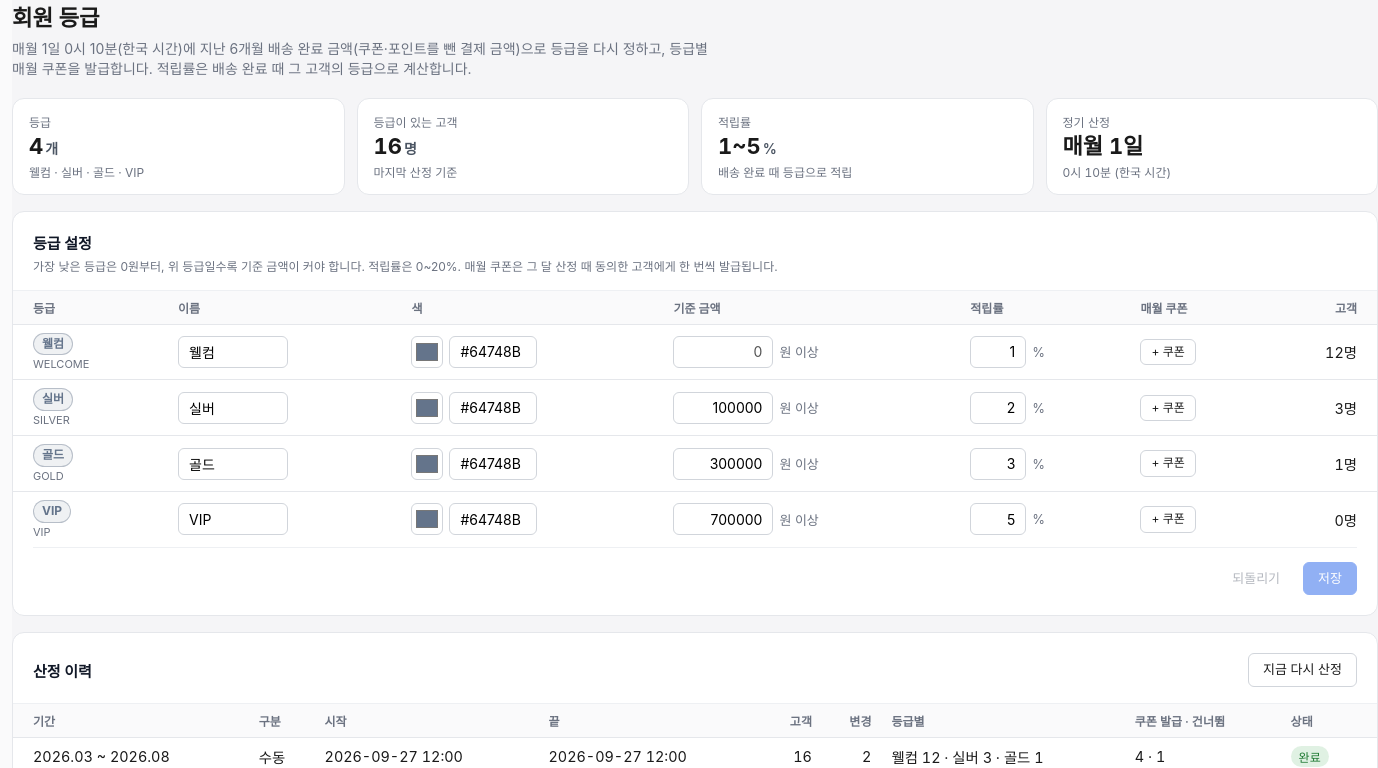
Test: TiersPage › shows the 409 message when a run is already going
Click the button "지금 다시 산정" at (1302, 670), box [1248,653,1357,687]
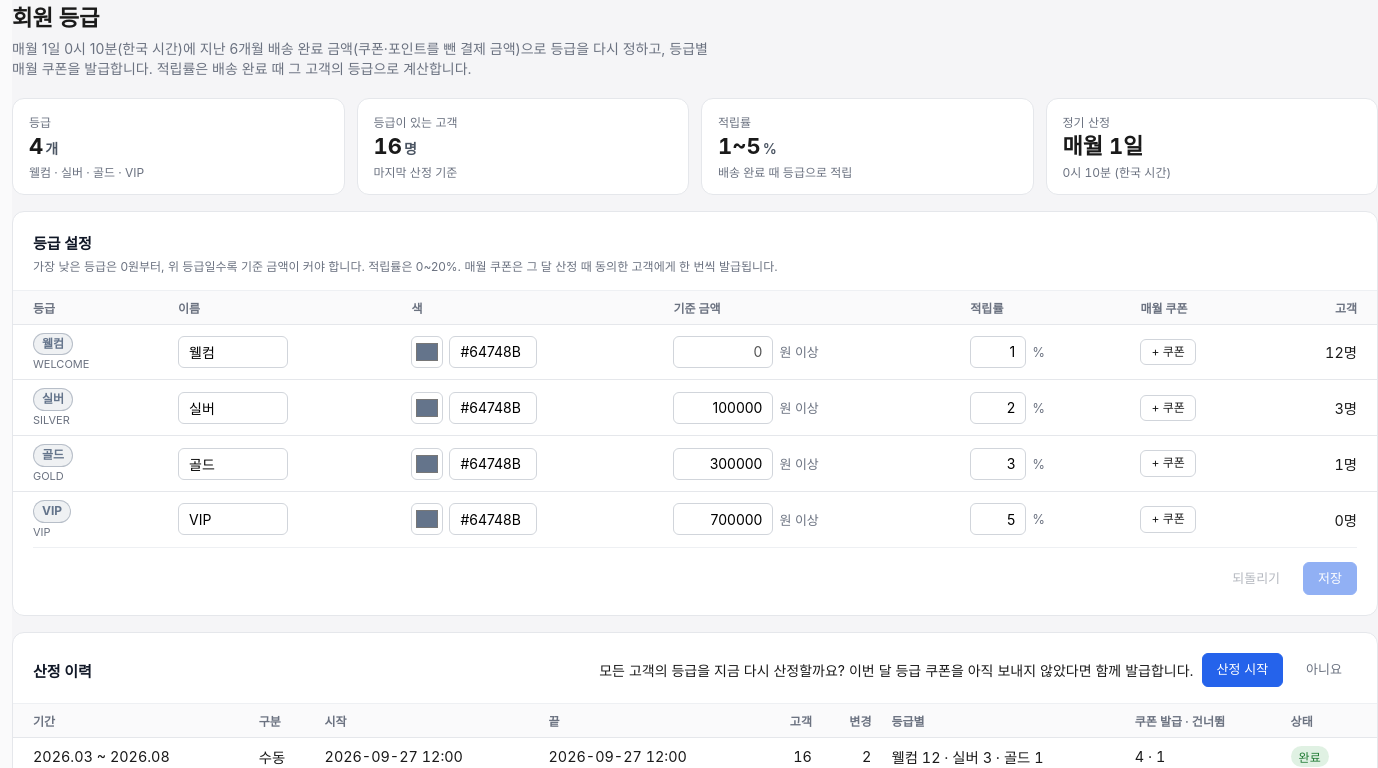
Click the button "산정 시작" at (1242, 670), box [1202,653,1283,687]
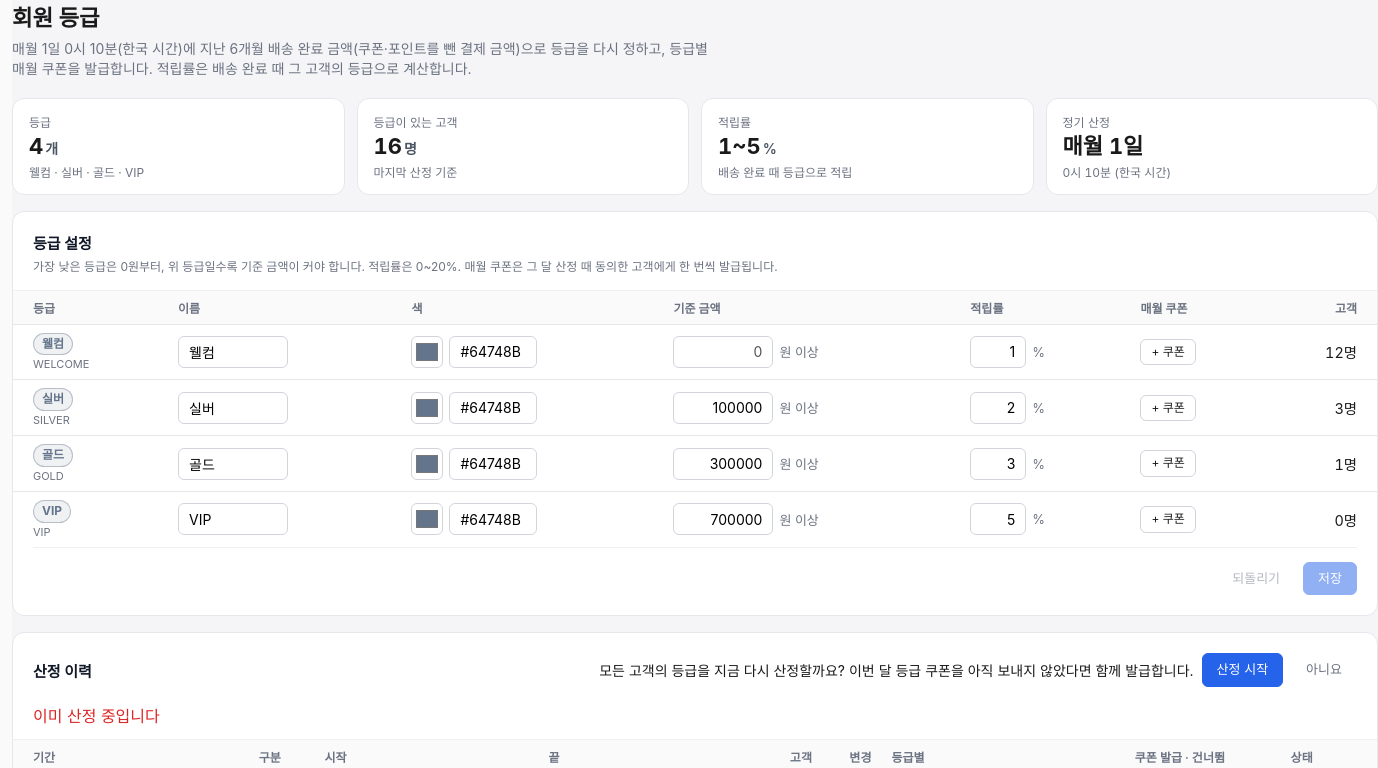
Now the text "이미 산정 중입니다" is shown, box [33,706,160,726]
